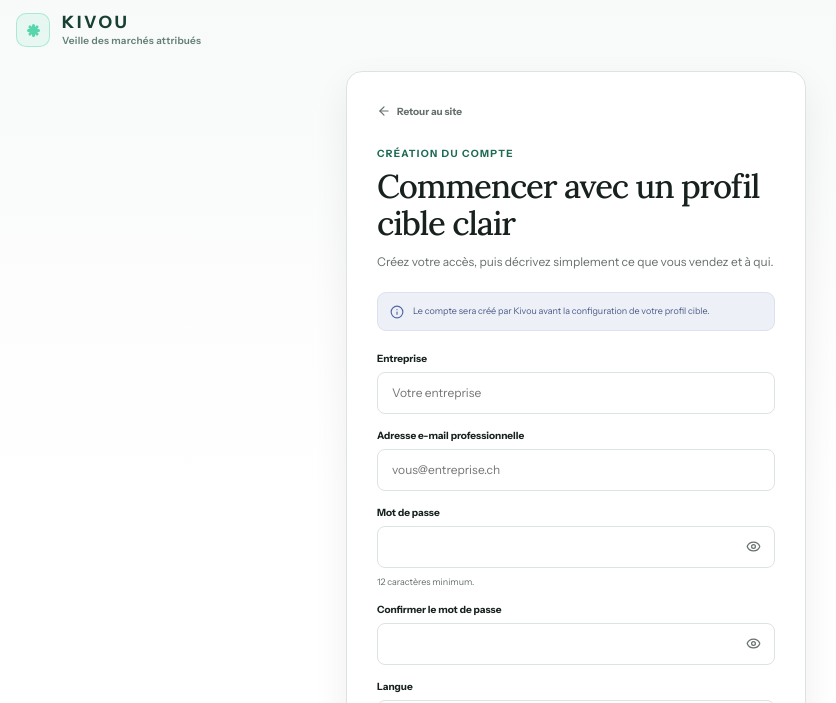
Scenario: inscription › affiche la validation du mot de passe sans appeler le serveur
Type "Acme" into the field labelled "Entreprise" at (576, 392), box top-left (377, 372), bottom-right (775, 414)
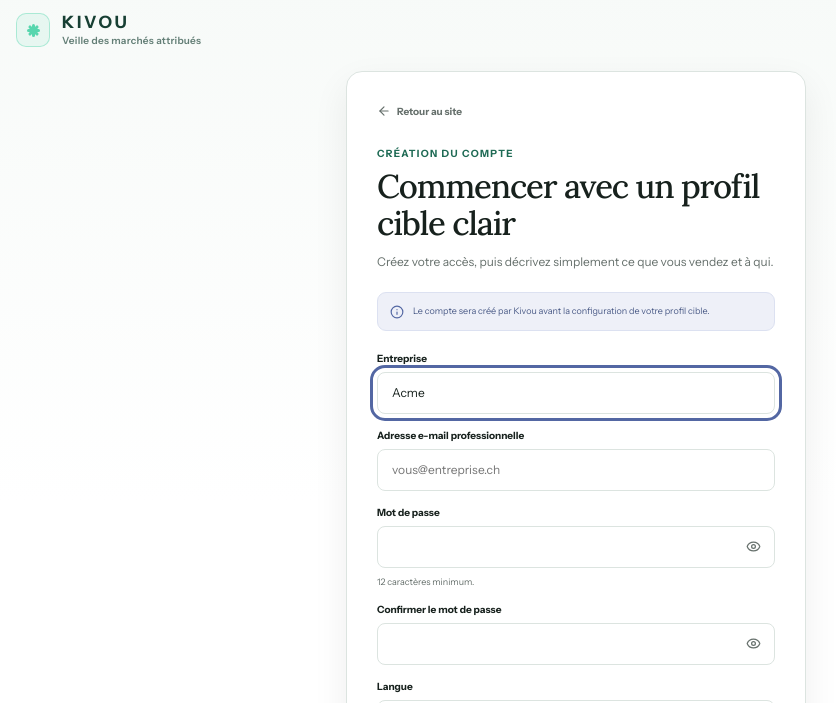
Type "claire@acme.test" into the field labelled "Adresse e-mail professionnelle" at (576, 470), box top-left (377, 448), bottom-right (775, 490)
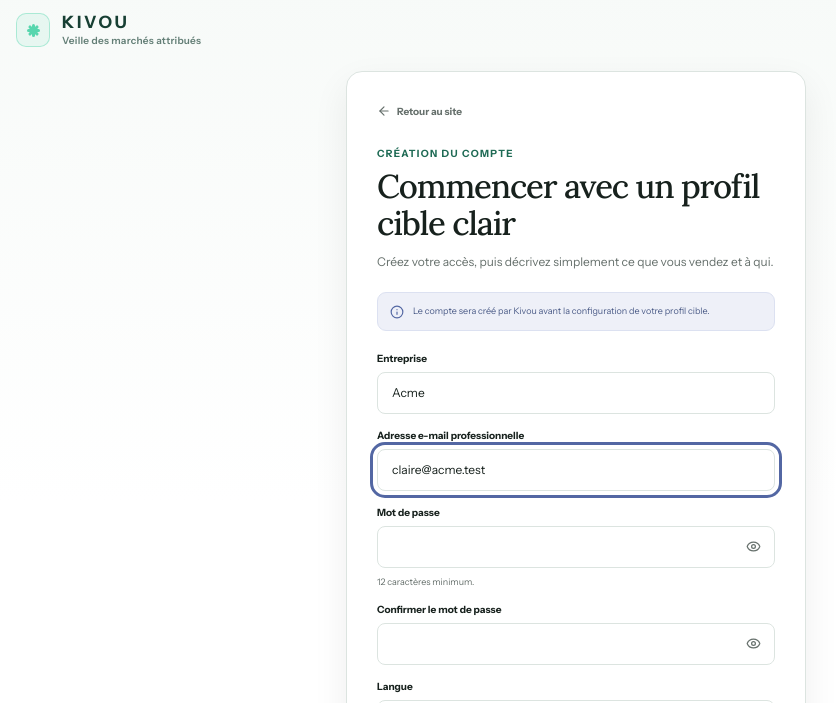
Type "court" into the password field labelled "Mot de passe" at (576, 546), box top-left (377, 526), bottom-right (775, 568)
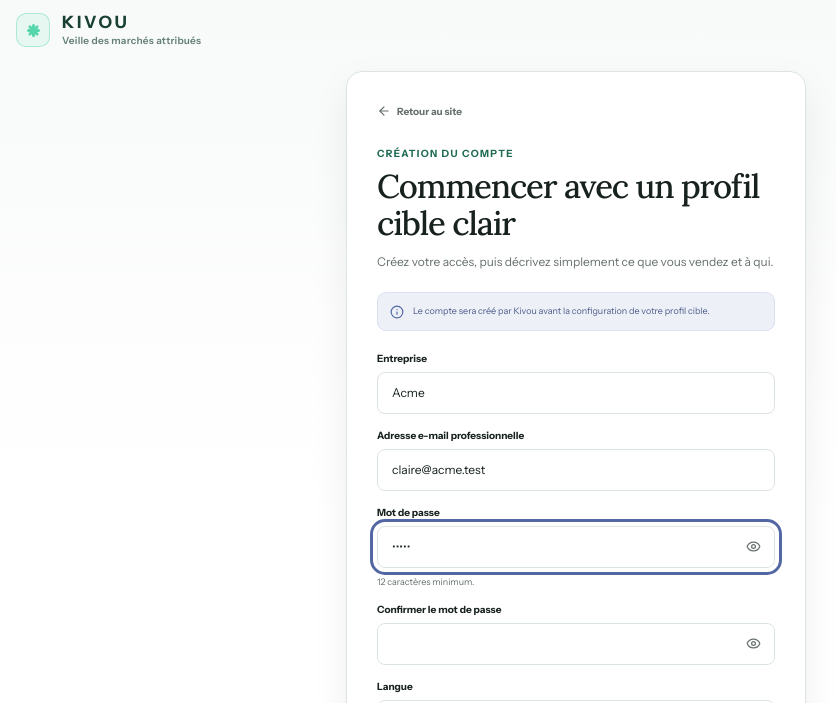
Type "court" into the password field labelled "Confirmer le mot de passe" at (576, 644), box top-left (377, 623), bottom-right (775, 665)
(page scrolled)
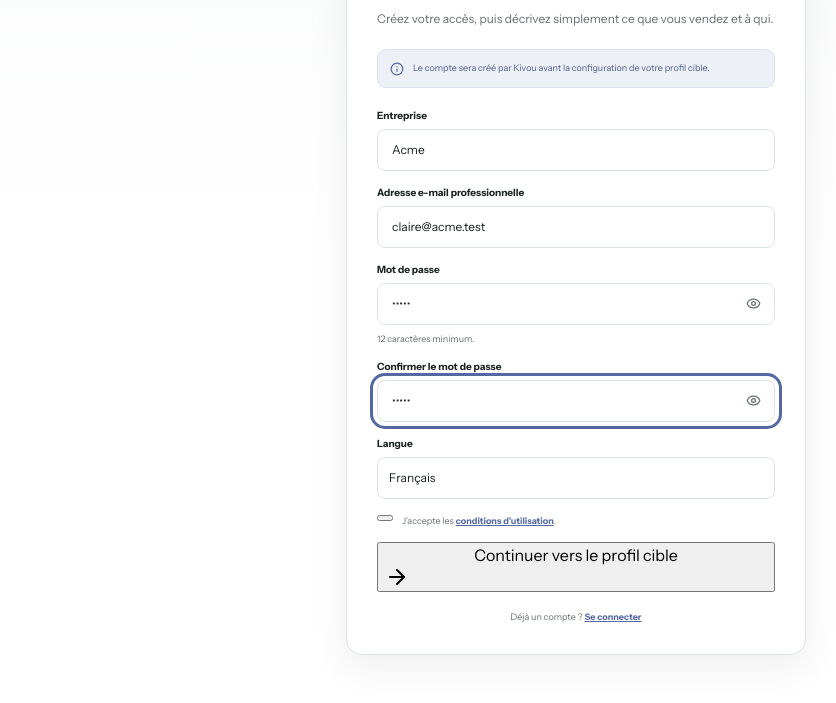
Click the button "Continuer vers le profil cible" at (576, 567), box top-left (377, 542), bottom-right (775, 592)
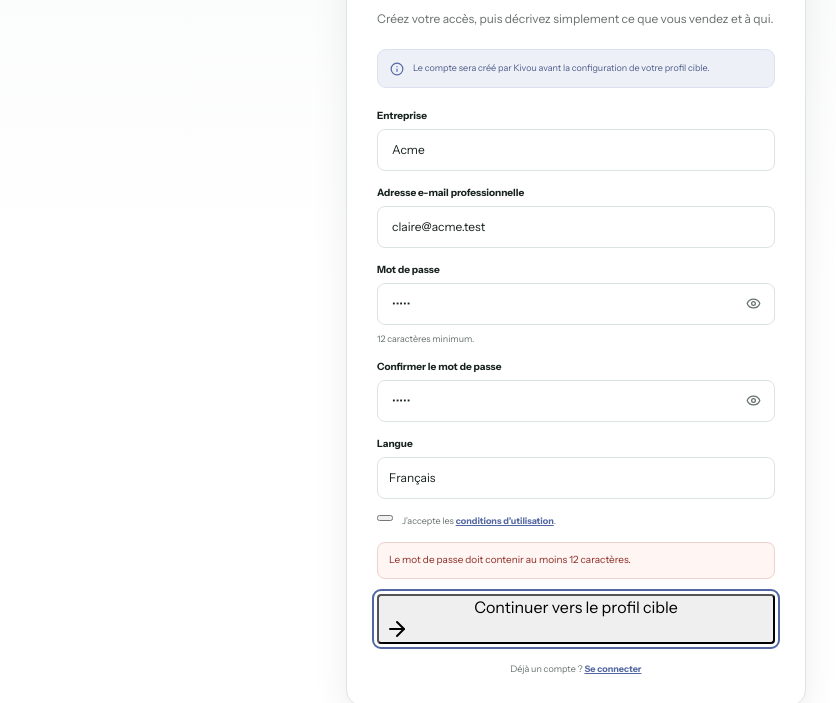
Expected: the text "12 caractères minimum." is shown, top-left (377, 332), bottom-right (474, 344)
Result: the message shows "au moins 12 caractères" at top-left (389, 553), bottom-right (631, 566)
